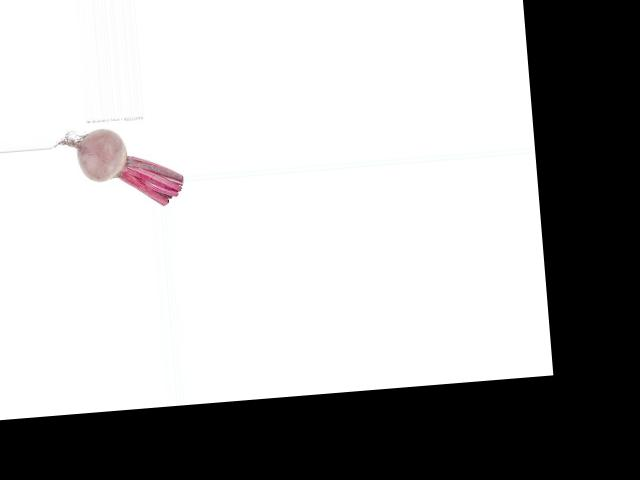beet: (53, 122, 186, 213)
